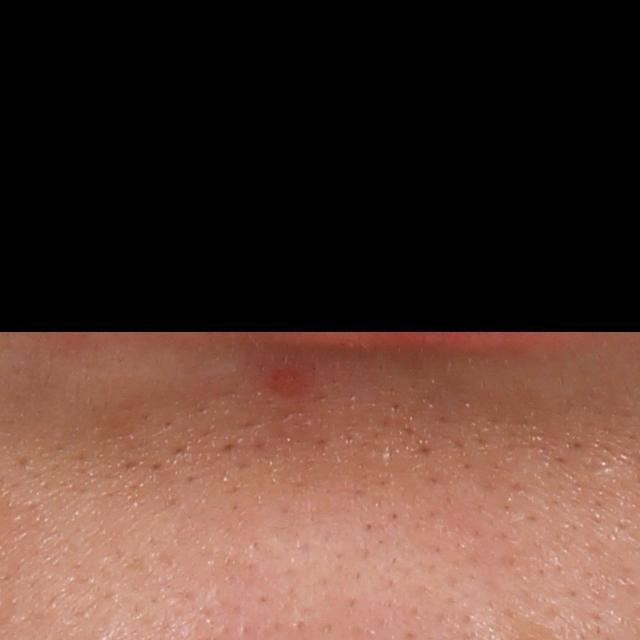papule: (269, 368, 299, 398)
